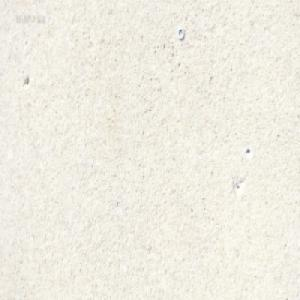Washer: (177, 26, 184, 40)
